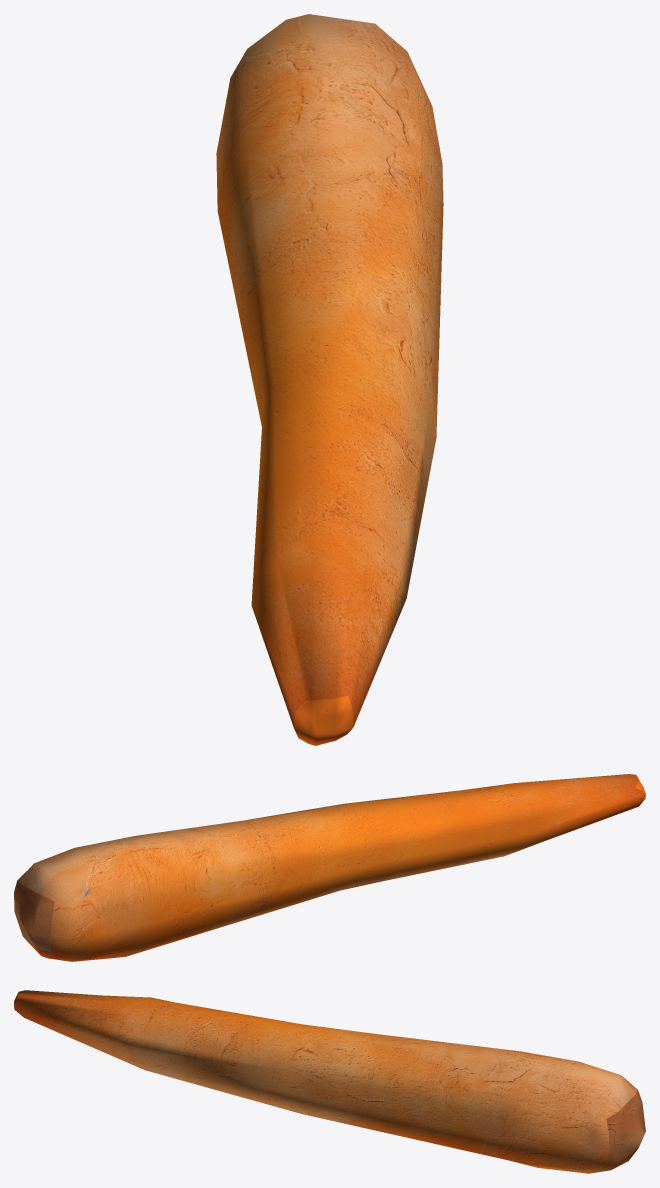
Rendered from carrot.fbx.
3 views of the same model, one above another, from view 1: azimuth 30°, elevation 25°; view 2: azimuth 150°, elevation 25°; view 3: azimuth 270°, elevation 25° (orthographic). The views are drawn at different scales.
Visible parts, largest first — view 1: Carrot; view 2: Carrot; view 3: Carrot.
Boxes of the visible parts, left/top/right/bottom form: Carrot: left=216, top=14, right=443, bottom=745; Carrot: left=14, top=774, right=645, bottom=961; Carrot: left=14, top=990, right=645, bottom=1173.
Bounding box in the file's own units: 23.44 × 6.76 × 37.41.
Materials: 1 (1 with a texture image).
